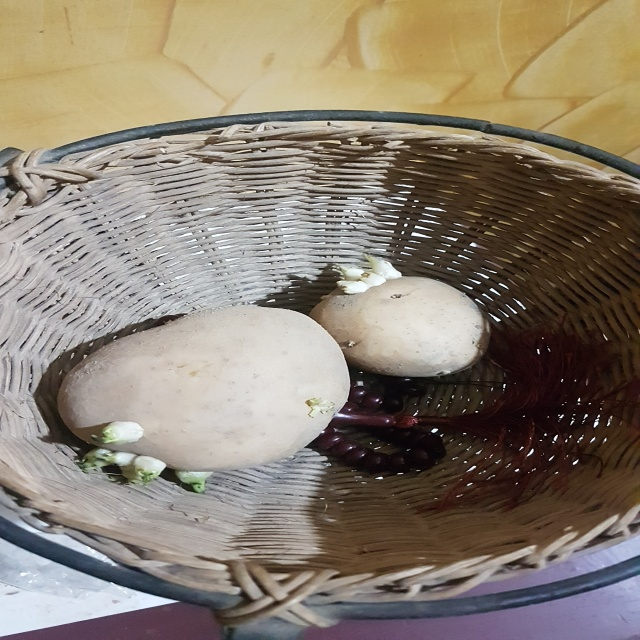potato: (40, 302, 358, 494), (314, 261, 496, 383)
